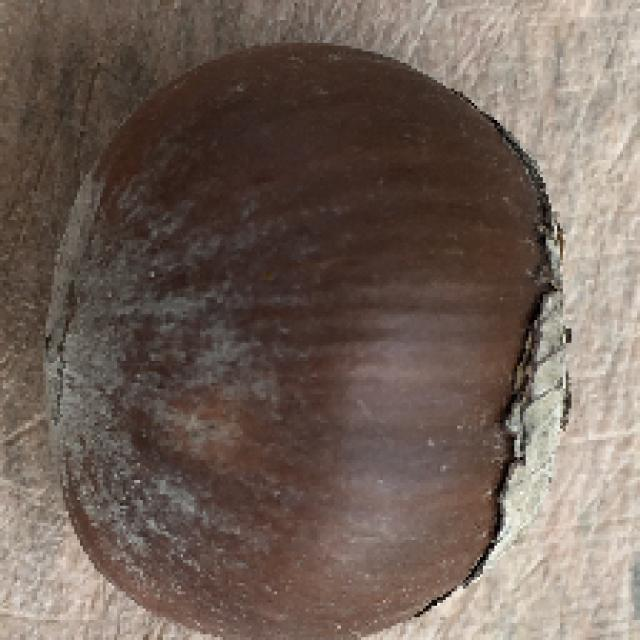damagedHazelnut: (37, 35, 571, 640)
